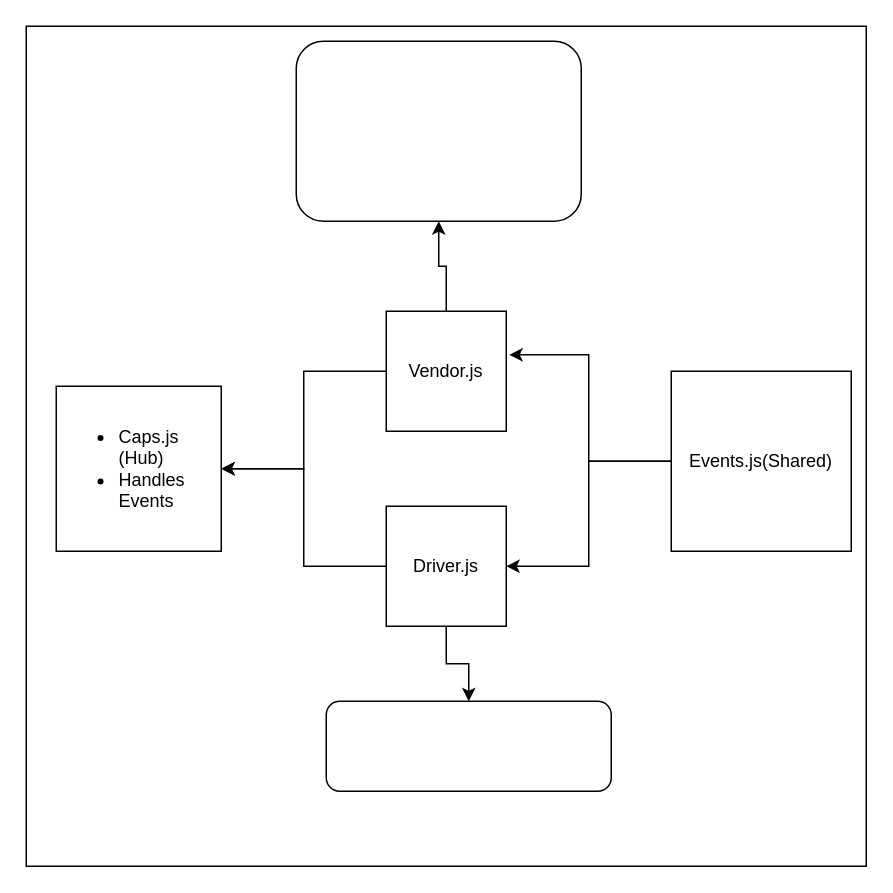
This 893x893 diagram has some shape labels left out. Here are the shapes that lost their labels. From the top down, the centre of each, then its label:
point 438,130: Store name new customers(interval)
point 468,745: Listen for pickup event pickup(interval) emit delivered
